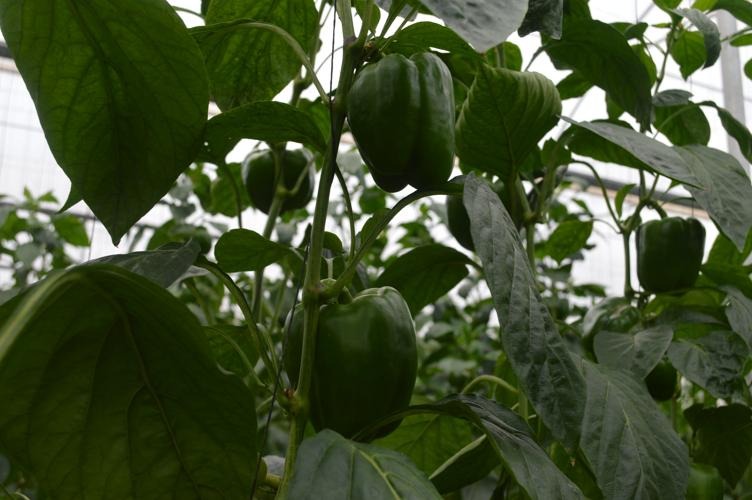BellPepper: (274, 281, 432, 444), (343, 48, 467, 201), (624, 194, 717, 298), (224, 131, 323, 220)
